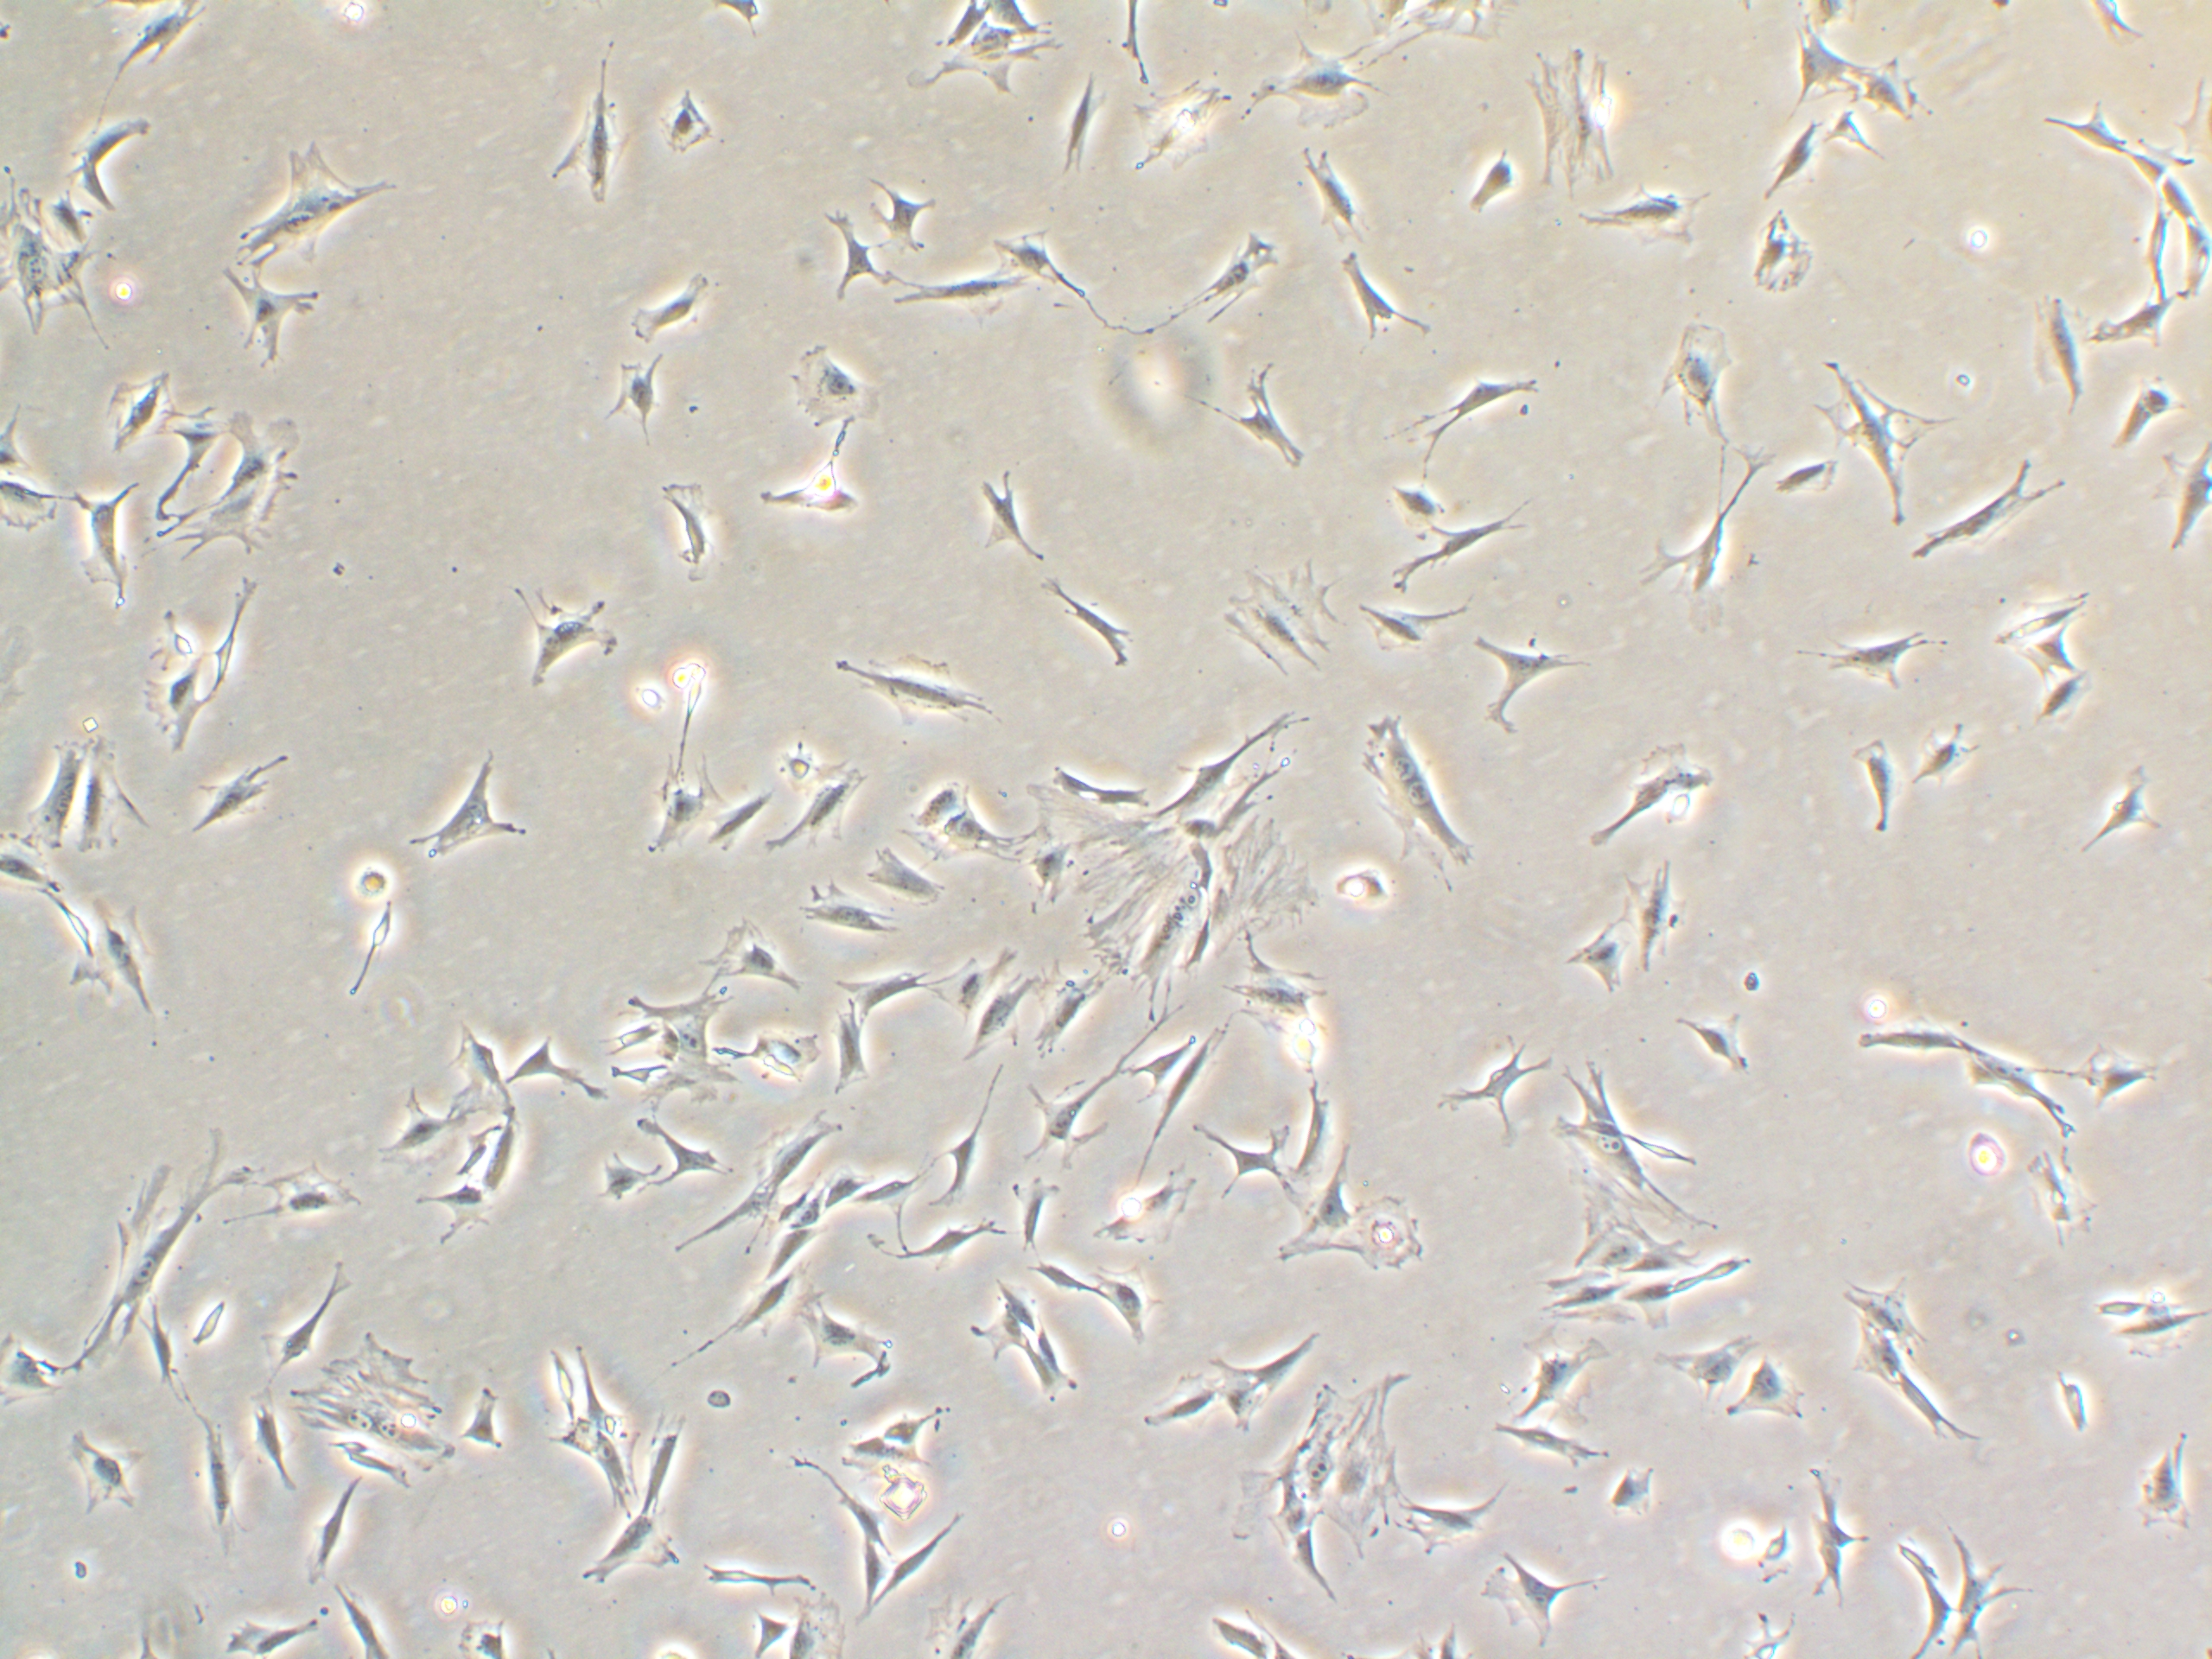small: (132, 596, 207, 680), (1322, 856, 1414, 918), (2036, 1349, 2095, 1439), (651, 87, 719, 166), (1376, 467, 1460, 523), (540, 1337, 589, 1431), (1611, 1457, 1672, 1532), (327, 843, 401, 901), (756, 734, 829, 791), (188, 1283, 244, 1349), (1752, 1516, 1799, 1595), (2078, 1281, 2155, 1328), (592, 1018, 664, 1063), (726, 1603, 784, 1659), (1660, 784, 1709, 836), (629, 669, 671, 723)
spread: (1021, 805, 1322, 1000), (1519, 1061, 1717, 1246), (1245, 1363, 1435, 1551), (89, 1134, 221, 1373), (289, 1331, 463, 1497), (1813, 331, 1946, 528), (0, 167, 134, 345), (223, 132, 376, 272), (179, 401, 307, 565), (1526, 26, 1648, 197), (744, 336, 942, 434), (1202, 563, 1357, 676)
